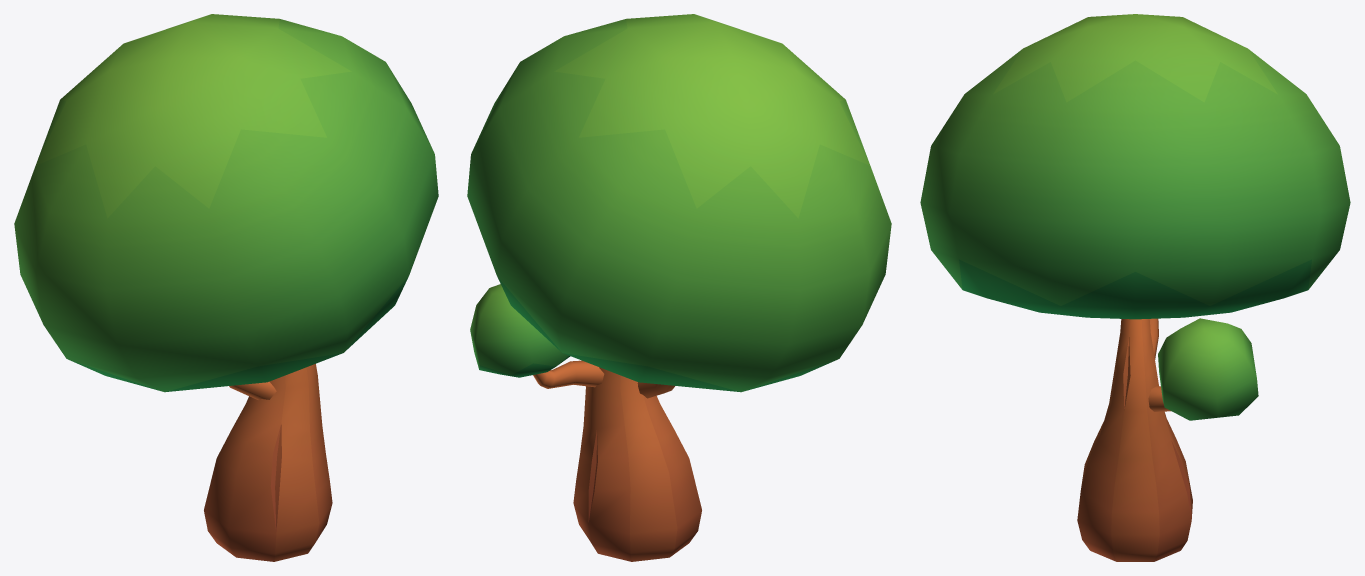
The model's file is Tree_1_A_Color1.glb.
3 views of the same model, side by side, from view 1: azimuth 30°, elevation 25°; view 2: azimuth 150°, elevation 25°; view 3: azimuth 270°, elevation 25° (orthographic). The views are drawn at different scales.
Visible parts, largest first — view 1: Tree_1_A_Color1; view 2: Tree_1_A_Color1; view 3: Tree_1_A_Color1.
Boxes of the visible parts, x1=… form: Tree_1_A_Color1: x1=14, y1=14, x2=438, y2=561; Tree_1_A_Color1: x1=467, y1=14, x2=891, y2=561; Tree_1_A_Color1: x1=920, y1=14, x2=1350, y2=561.
Bounding box in the file's own units: 3.18 × 4.16 × 3.25.
1 material, 1 textured.
